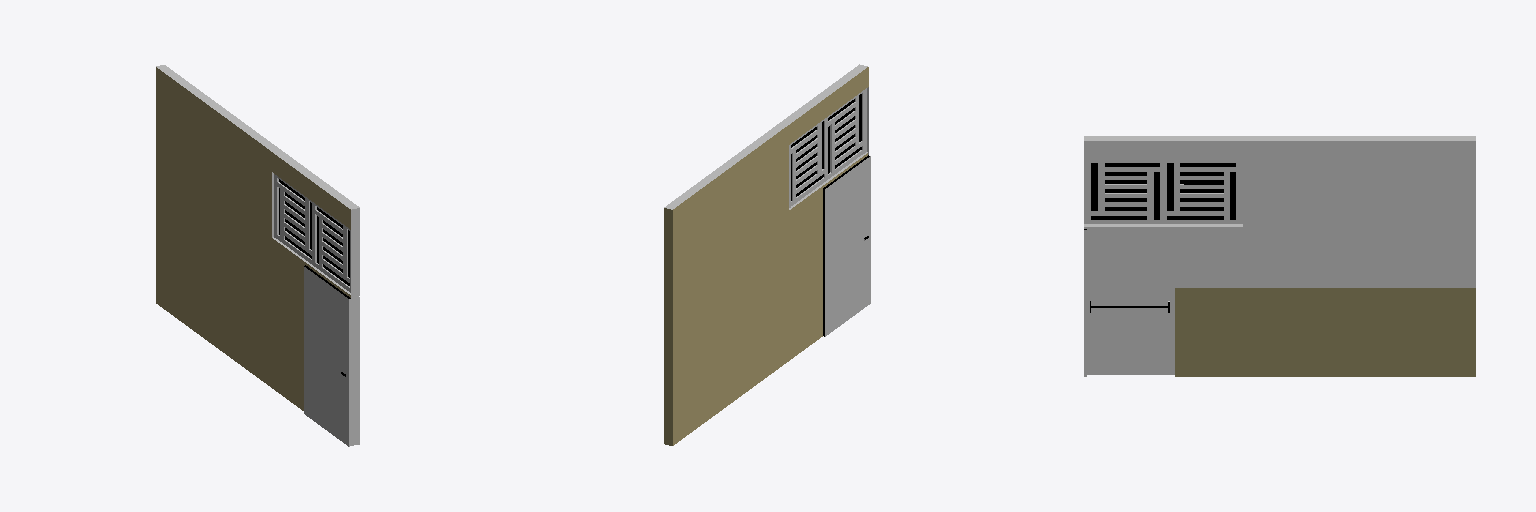
The model's file is bloque_lateral_1.obj.
The picture shows the model from 3 angles: view 1: azimuth 30°, elevation 25°; view 2: azimuth 150°, elevation 25°; view 3: azimuth 270°, elevation 25°; orthographic projection.
Parts seen in each view (by area): view 1: PISO1_Cube.016, PUERTA5_Cube.129, VENTANAS_EXTERIOR_Cube.034; view 2: PISO1_Cube.016, PUERTA5_Cube.129, VENTANAS_EXTERIOR_Cube.034; view 3: PISO1_Cube.016, PUERTA5_Cube.129, VENTANAS_EXTERIOR_Cube.034.
Boxes of the visible parts, x1=… form: PISO1_Cube.016: x1=156, y1=65, x2=359, y2=410; PUERTA5_Cube.129: x1=304, y1=265, x2=359, y2=446; VENTANAS_EXTERIOR_Cube.034: x1=274, y1=174, x2=355, y2=294; PISO1_Cube.016: x1=664, y1=64, x2=868, y2=445; PUERTA5_Cube.129: x1=823, y1=155, x2=870, y2=336; VENTANAS_EXTERIOR_Cube.034: x1=789, y1=88, x2=866, y2=207; PISO1_Cube.016: x1=1084, y1=136, x2=1475, y2=376; PUERTA5_Cube.129: x1=1084, y1=229, x2=1174, y2=376; VENTANAS_EXTERIOR_Cube.034: x1=1084, y1=161, x2=1242, y2=223.
Bounding box in the file's own units: 0.3351 × 6.01 × 9.01.